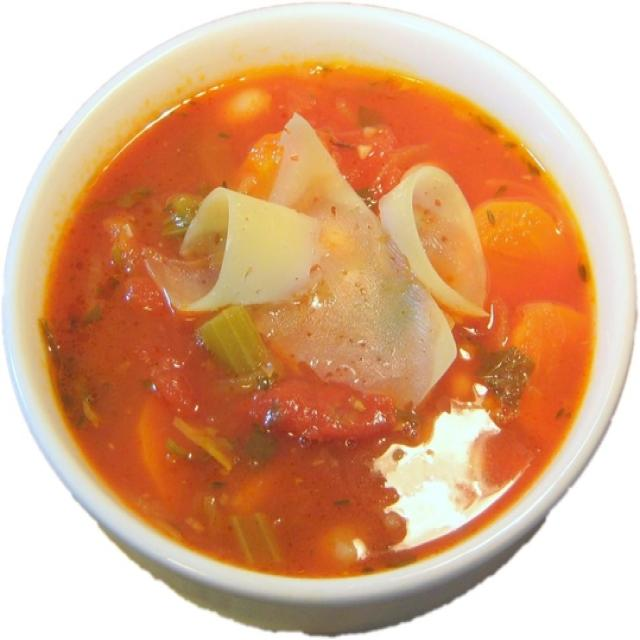汤锅炖物: (16, 4, 630, 626)
